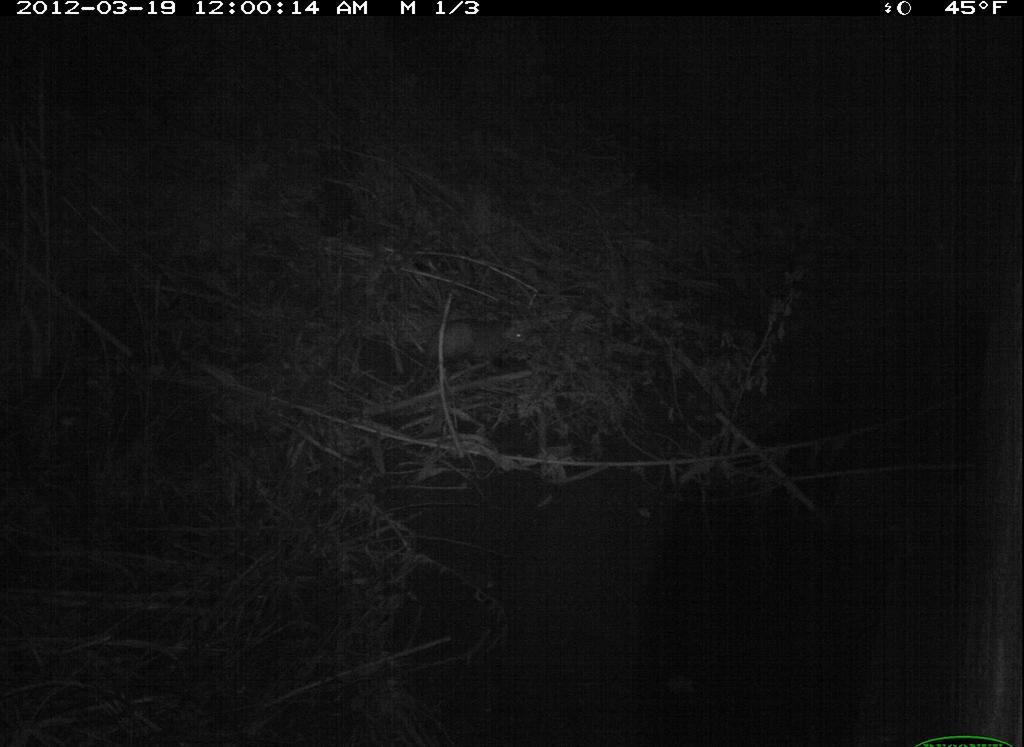opossum: (411, 285, 541, 399)
